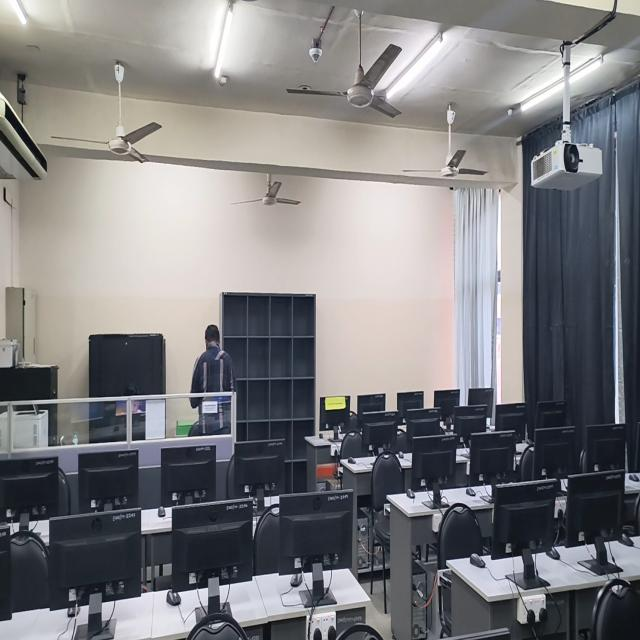Ac: (0, 93, 47, 179)
Chair: (10, 530, 49, 612), (437, 503, 483, 569), (591, 578, 640, 639), (372, 453, 404, 512), (254, 504, 280, 575), (187, 612, 248, 639), (336, 623, 383, 639), (340, 429, 362, 459), (517, 443, 534, 481)
Cpu: (411, 559, 434, 639), (358, 511, 372, 572)
Light: (386, 33, 445, 100), (213, 0, 236, 86), (519, 76, 562, 112), (570, 53, 604, 84), (9, 0, 27, 26)
Monitor: (49, 508, 141, 610), (171, 501, 253, 591), (278, 490, 354, 575), (566, 471, 624, 569), (491, 479, 558, 559), (0, 457, 69, 520), (227, 440, 285, 513), (78, 450, 138, 512), (161, 446, 216, 507), (469, 432, 515, 484), (411, 436, 455, 490), (533, 427, 576, 478), (581, 424, 626, 471), (406, 410, 443, 452), (320, 395, 355, 439), (363, 413, 398, 455), (495, 403, 526, 442), (454, 416, 487, 447), (434, 390, 459, 430), (535, 400, 568, 430), (357, 392, 386, 426), (468, 388, 494, 418), (397, 391, 424, 417)
Mouse: (166, 589, 181, 605), (470, 553, 485, 567), (546, 547, 560, 560), (290, 572, 302, 587), (67, 606, 77, 617), (158, 505, 165, 517), (466, 488, 476, 496), (407, 489, 415, 498), (348, 457, 355, 463)
Projector: (531, 141, 603, 190)
